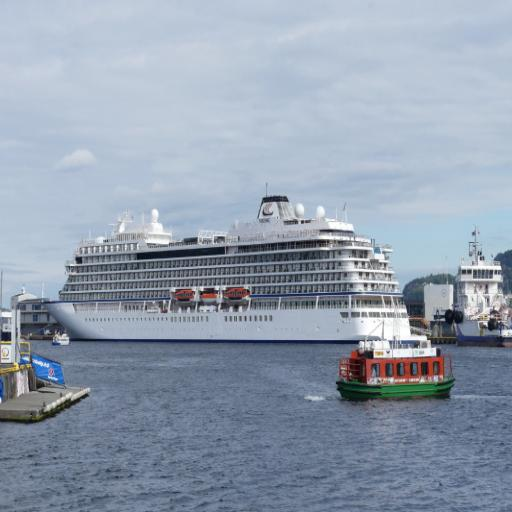cruises: (42, 193, 418, 355)
